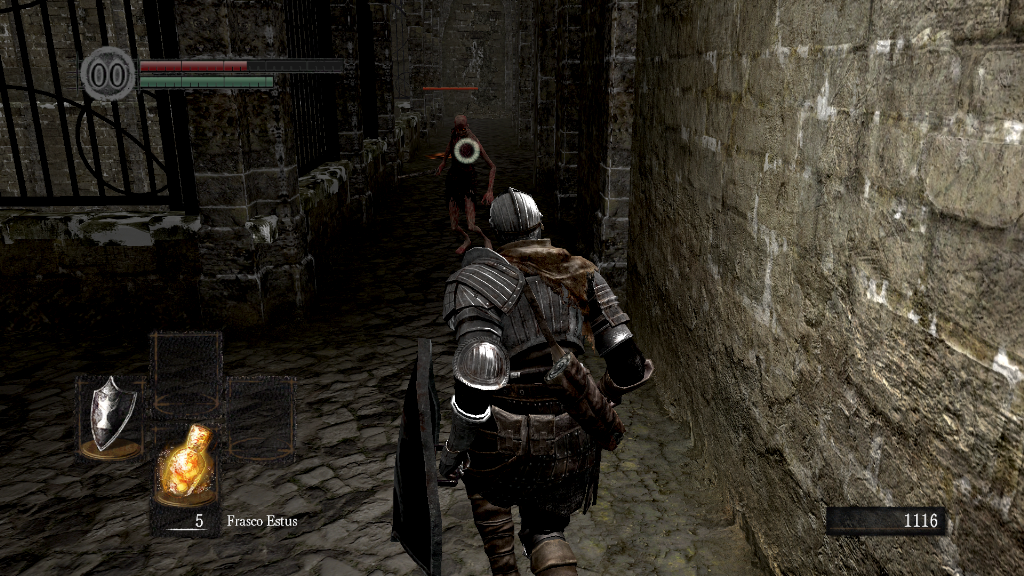health: (138, 58, 343, 71)
hollow: (435, 112, 497, 260)
humanity: (80, 45, 136, 102)
player: (389, 188, 654, 576)
souls: (825, 506, 945, 536)
stamina: (138, 74, 274, 88)
